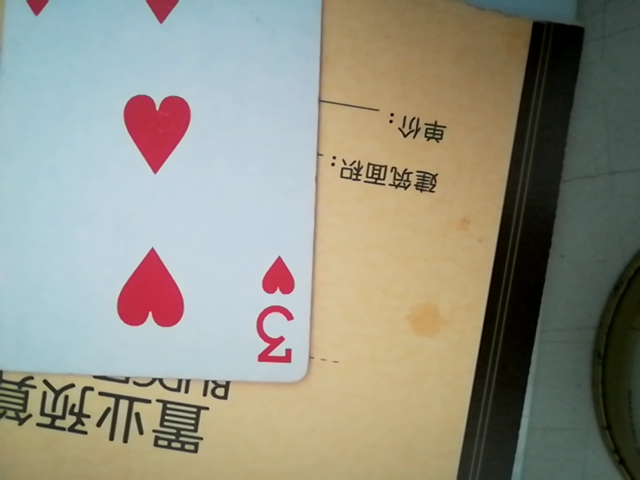hx 3: (0, 5, 331, 381)
